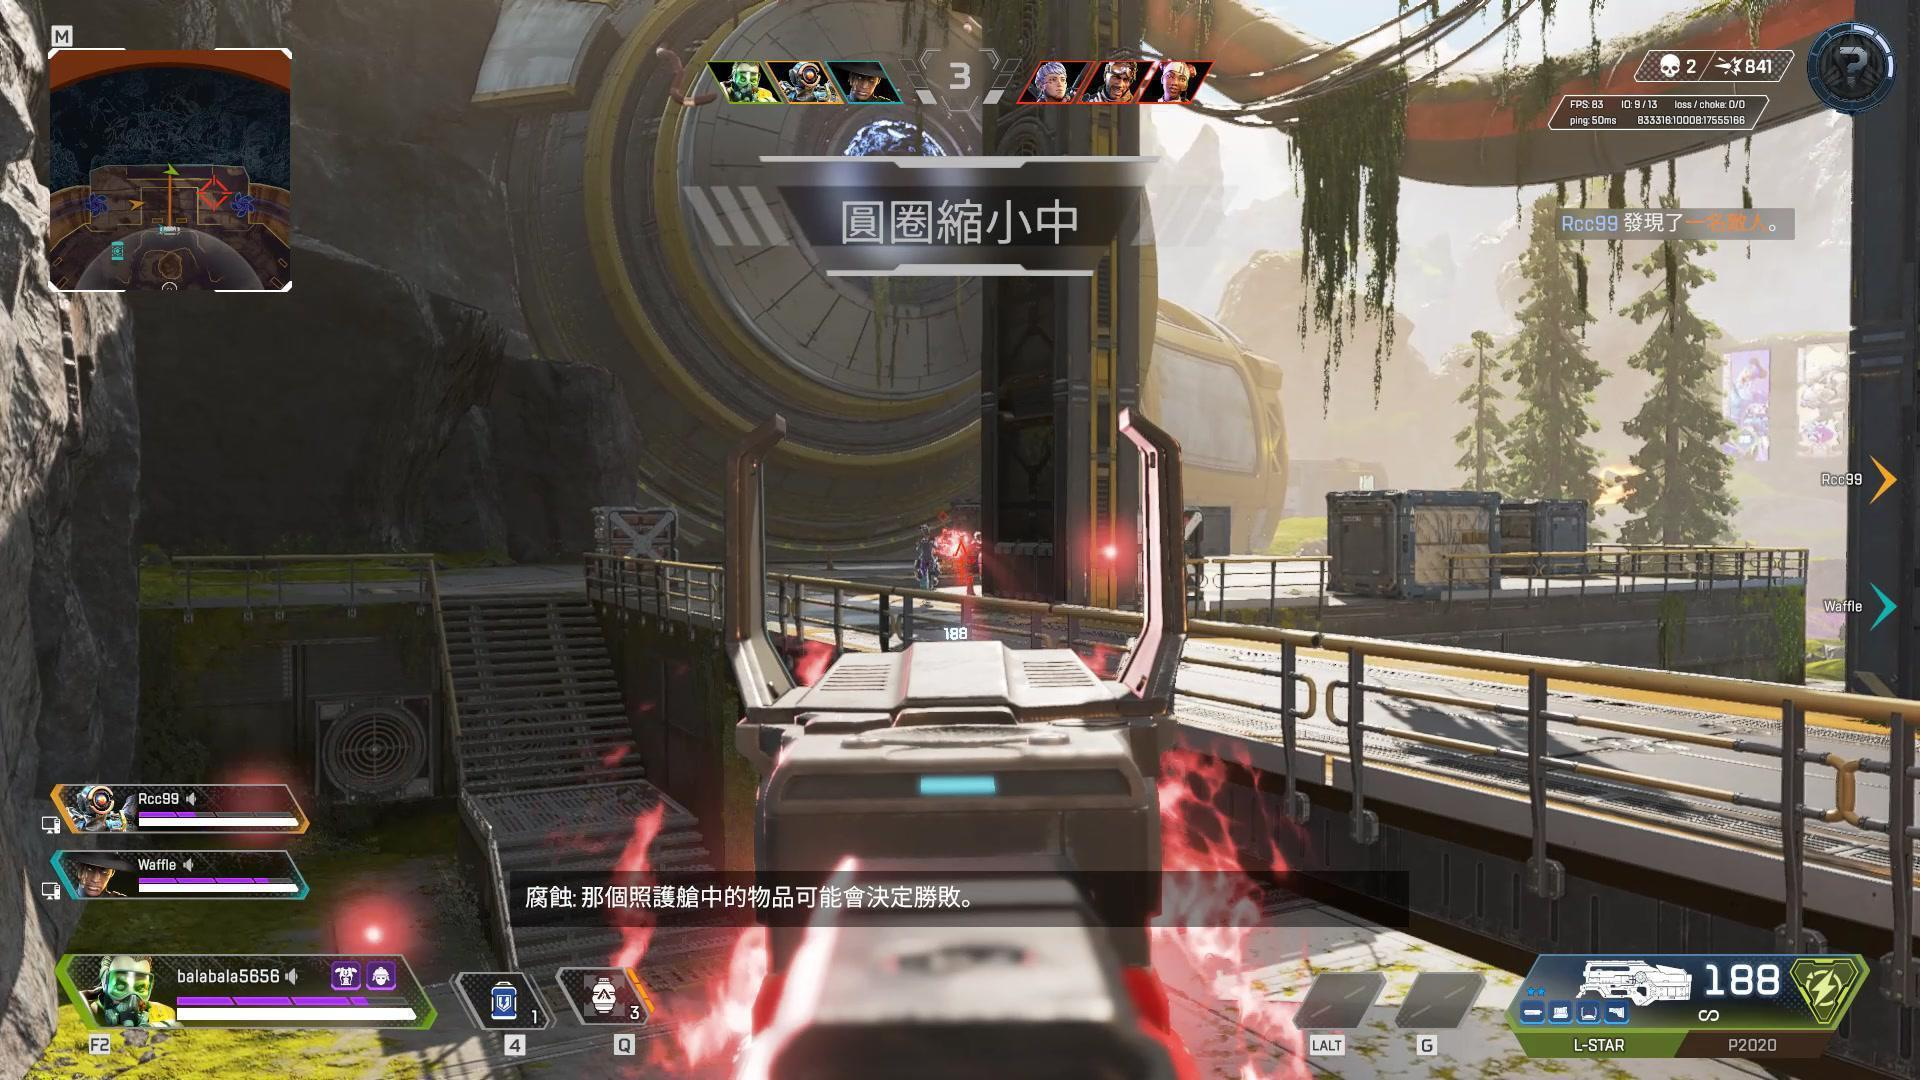avatar: (912, 523, 942, 591)
